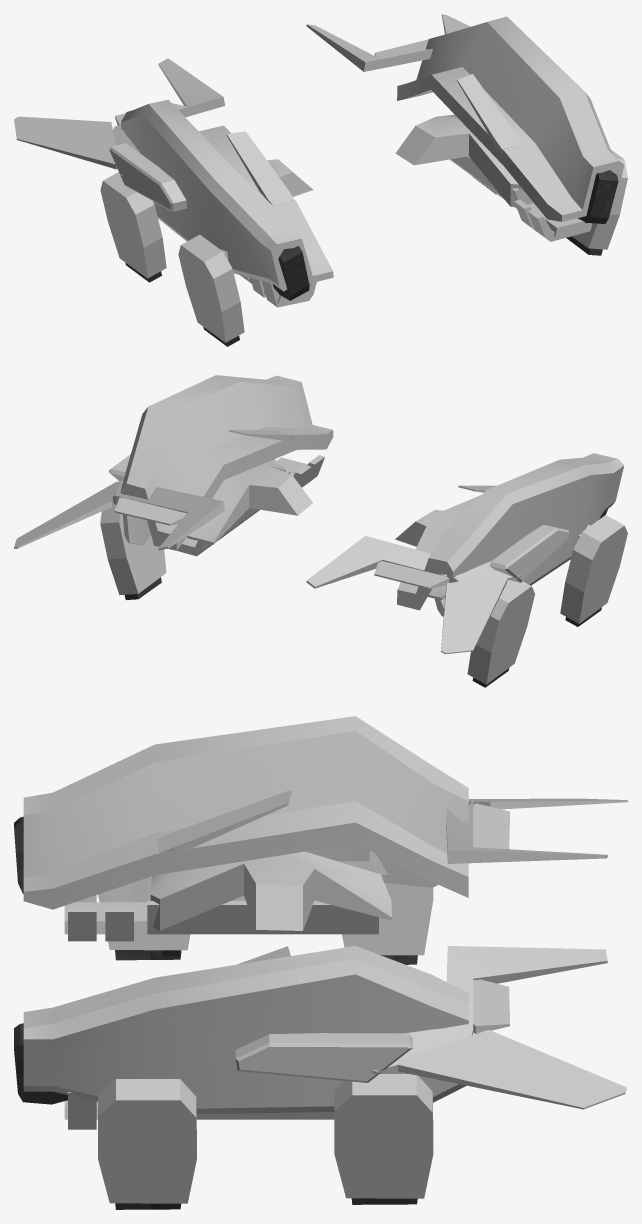
Rendered from wing08.FBX.
The picture shows the model from 3 angles, top to bottom: view 1: azimuth 30°, elevation 25°; view 2: azimuth 150°, elevation 25°; view 3: azimuth 270°, elevation 25°; orthographic projection. The views are drawn at different scales.
Parts seen in each view (by area): view 1: wing08; view 2: wing08; view 3: wing08.
Part boxes in pixels (x1,y1,x2,y2): wing08: [14, 14, 627, 346]; wing08: [14, 375, 627, 687]; wing08: [14, 716, 627, 1209].
Bounding box in the file's own units: 1044 × 389 × 878.
